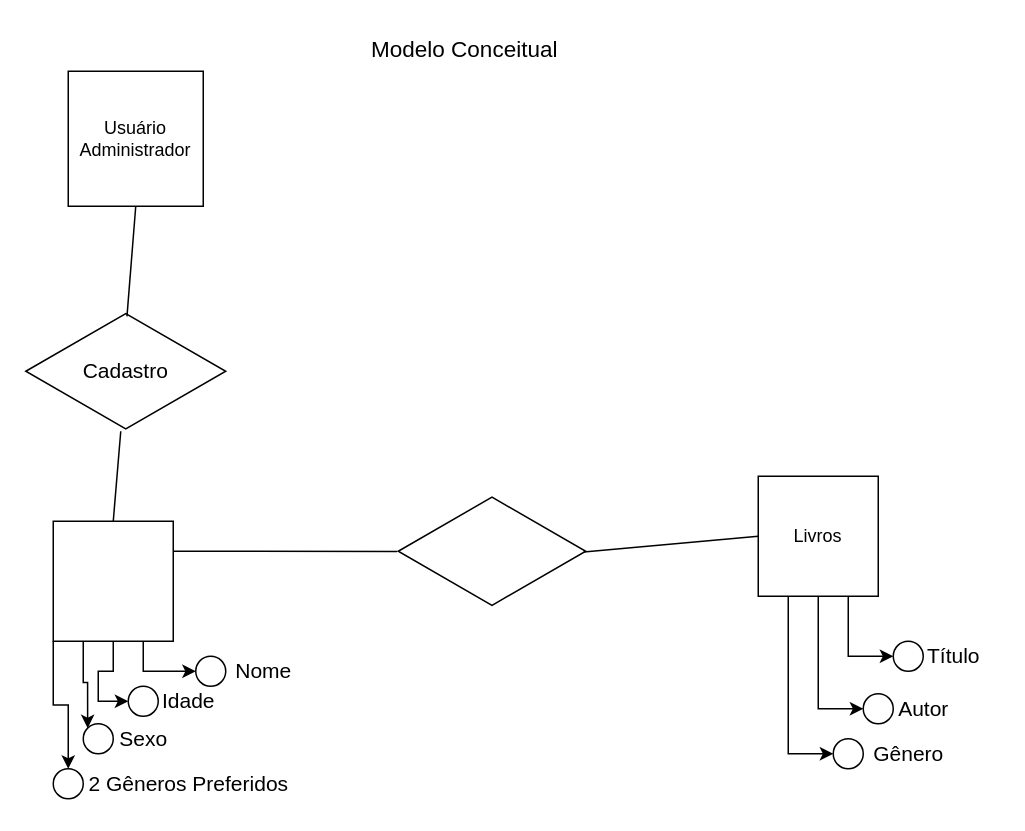
This 1025x831 diagram has some shape labels left out. The shapes that lost their labels are listed below. From the top down, each one's centre as x and y in pixels, then its label:
(x=491, y=551): Cadastra
(x=112, y=580): Usuário Comum
